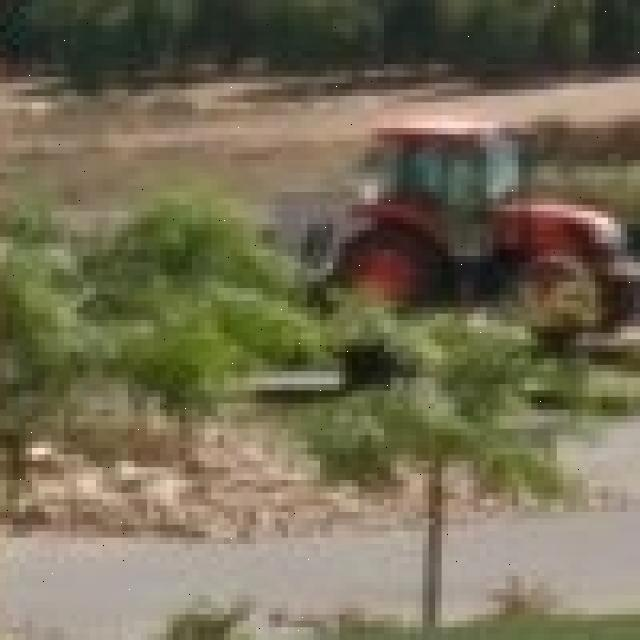Tratores - v5 YOLO V8L 2024-11-13: (307, 121, 640, 326)
